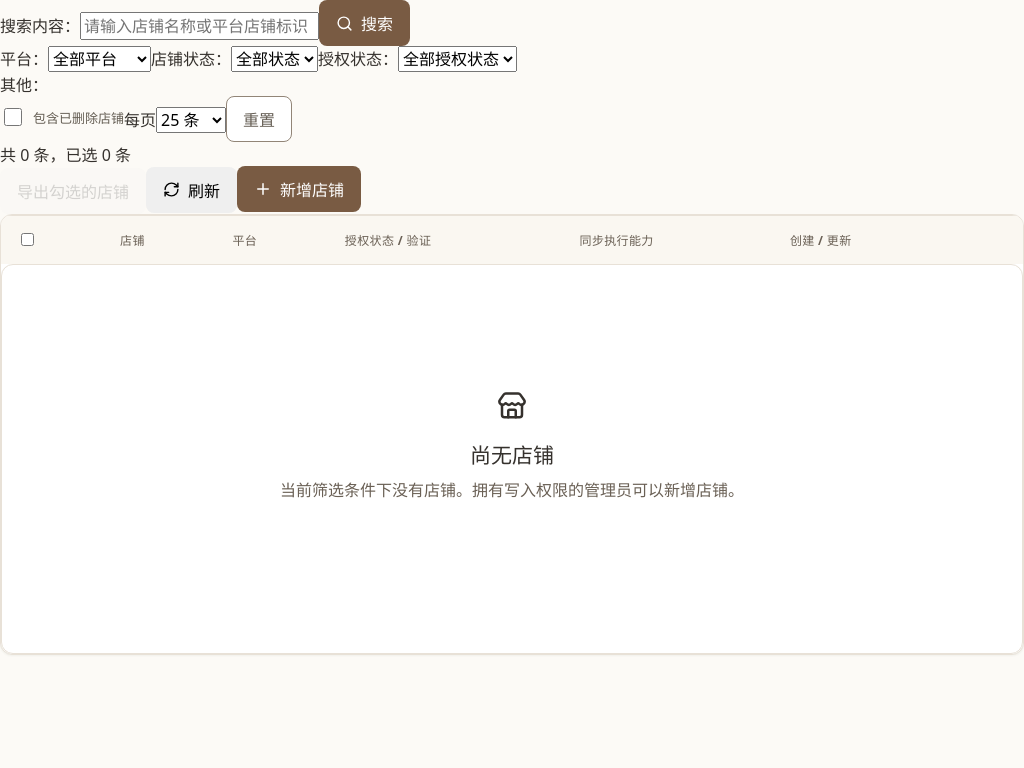
Scenario: ShopCenterPage presentation › offers only active supported platforms and revalidates a tampered submission
Expected: the heading "尚无店铺" is shown, [470,439,554,469]
Click the button "新增店铺". click: (299, 189)
box: [237,166,361,212]
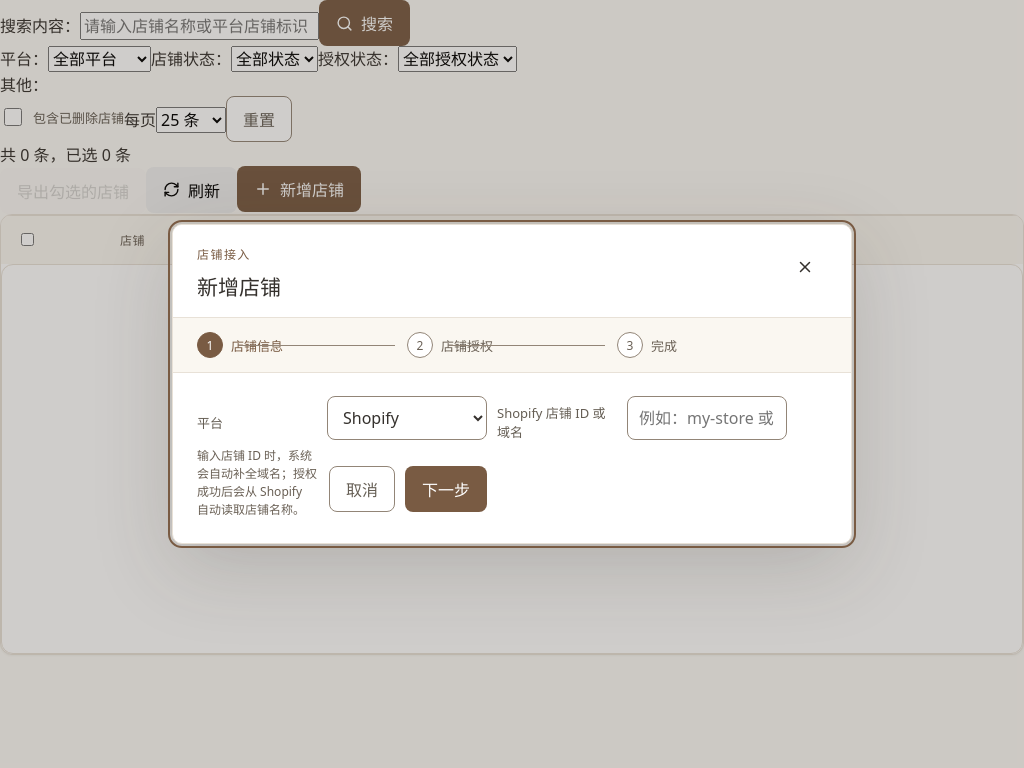
Type "store-1" into the field labelled "Shopify 店铺 ID 或域名". click: (707, 418)
box: [627,396,787,440]
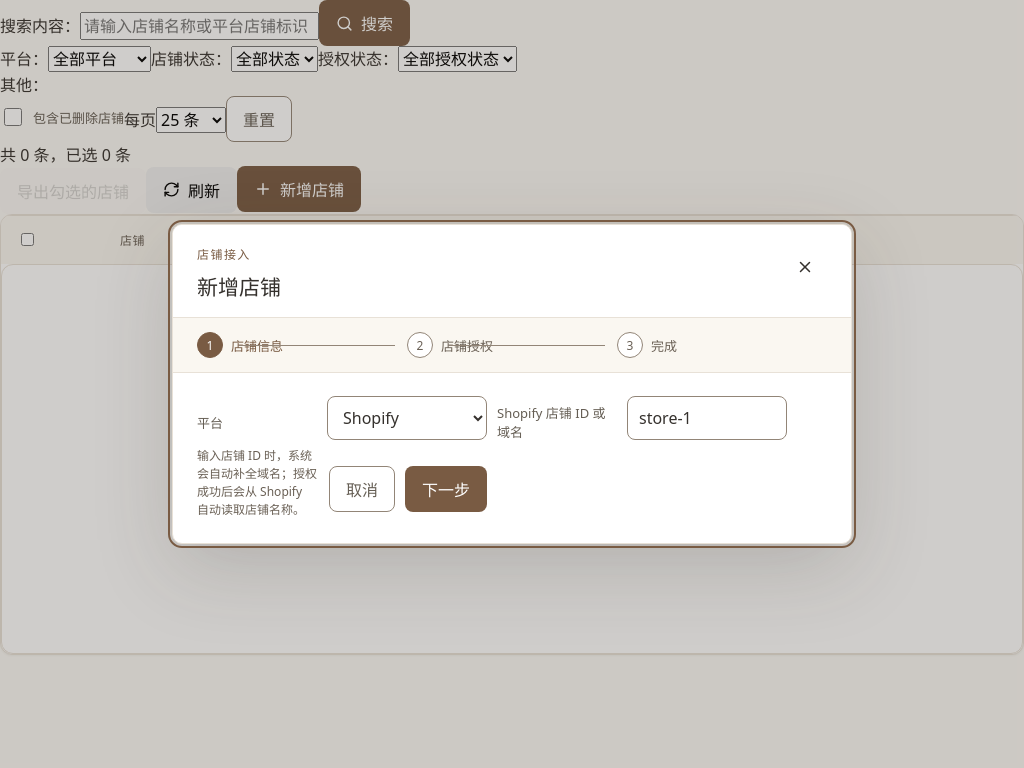
Expected: the text "输入店铺 ID 时，系统会自动补全域名；授权成功后会从 Shopify 自动读取店铺名称。" is shown, [197,447,317,519]
Select "被篡改的非 Shopify 平台" in the dropdown labelled "平台". click: (407, 418)
box: [327,396,487,440]
Click the button "下一步". click: (446, 489)
box: [405,466,487,512]
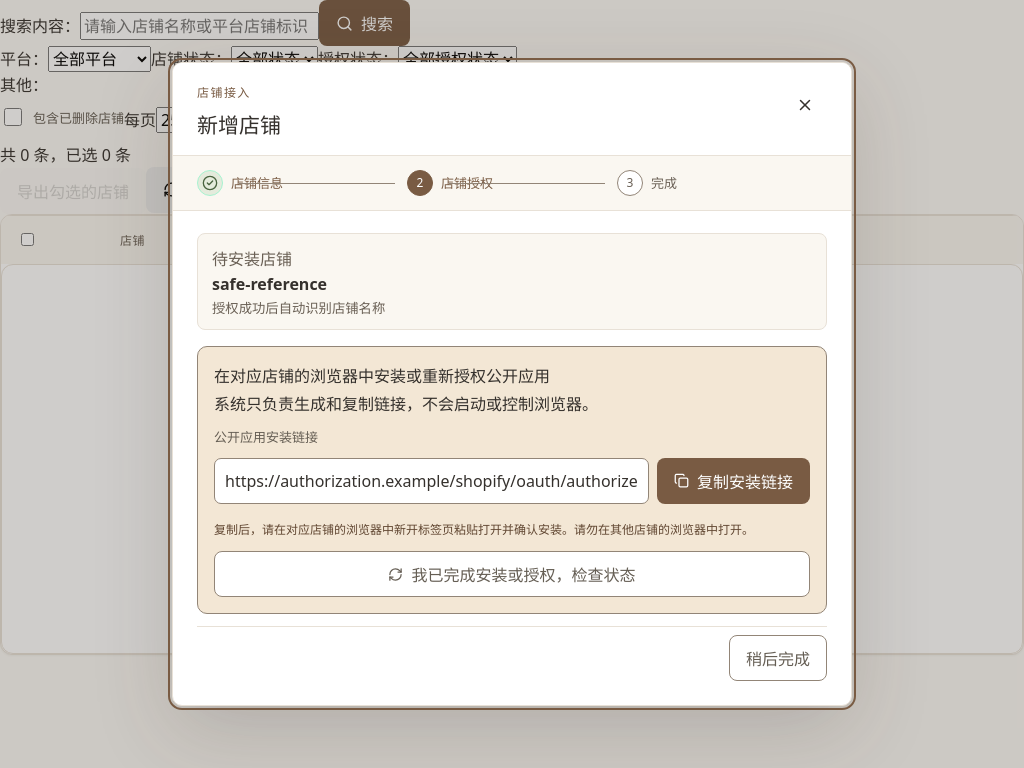
Expected: the button "复制安装链接" is shown, [657,458,810,504]
